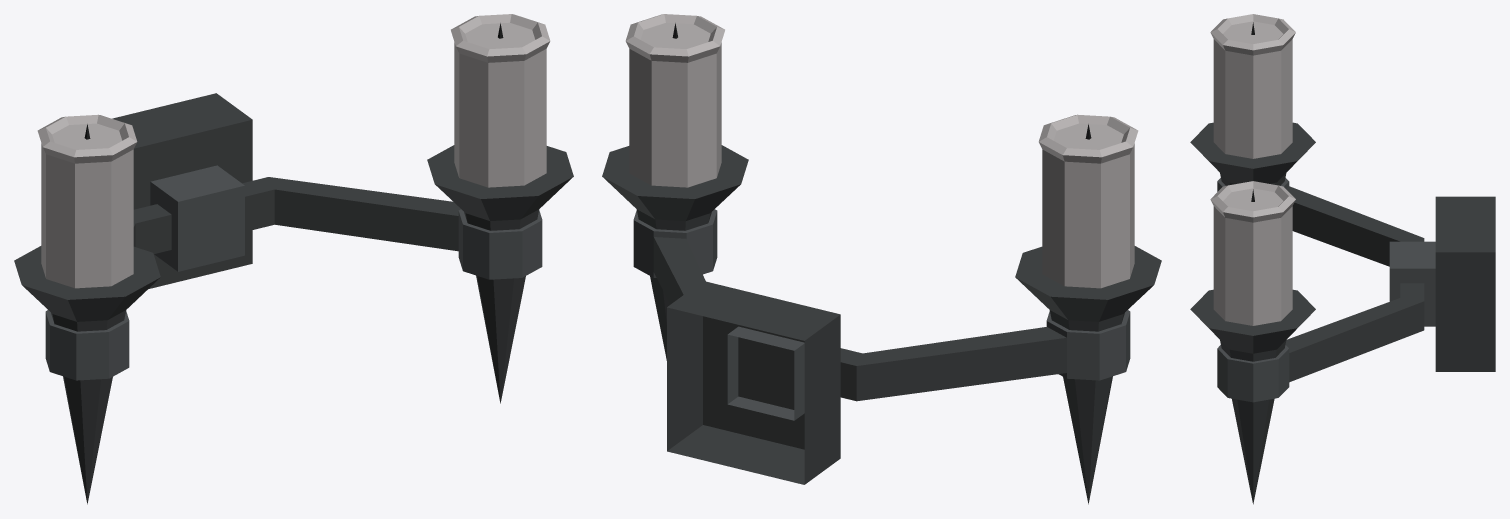
The model's file is Wall Candle 01.fbx.
The picture shows the model from 3 angles, left to right: view 1: azimuth 30°, elevation 25°; view 2: azimuth 150°, elevation 25°; view 3: azimuth 270°, elevation 25°; orthographic projection. The views are drawn at different scales.
Visible parts, largest first — view 1: Wall_Candle_01; view 2: Wall_Candle_01; view 3: Wall_Candle_01.
Boxes of the visible parts, box(x1,y1,x2,y2) form: Wall_Candle_01: box(14, 14, 573, 504); Wall_Candle_01: box(602, 14, 1161, 504); Wall_Candle_01: box(1190, 14, 1495, 504).
Size of the model in its own units: 71.2 by 47.67 by 41.73.
